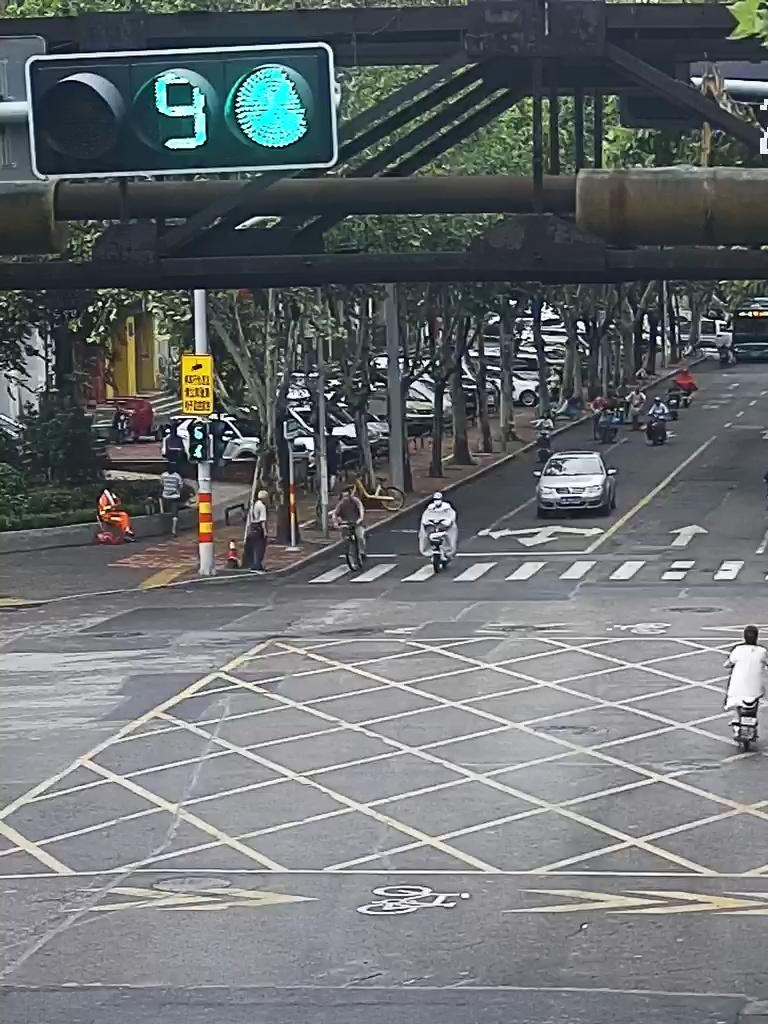green: (221, 57, 314, 146)
greentime: (150, 61, 211, 154)
